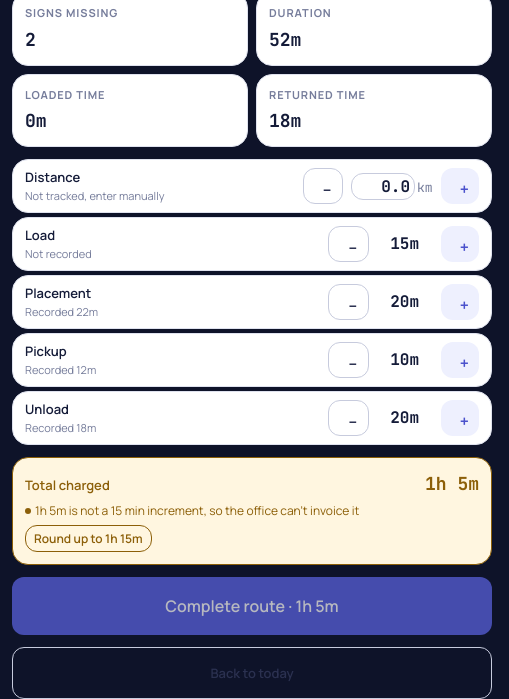
Test: Operator Finalise page › rounding up brings the total to a 15 min increment and re-enables completion
(page scrolled)
Click the button "Round up to 1h 15m".
click(88, 539)  # box [25,526,152,552]
(page scrolled)
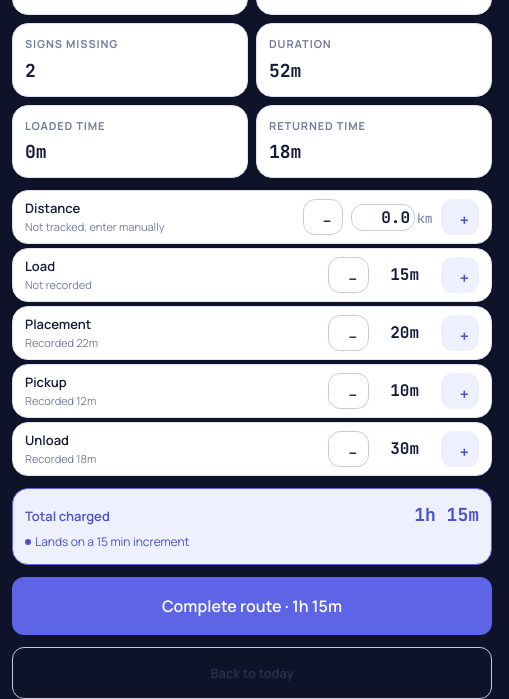
Result: the text "Lands on a 15 min increment" is shown at [35,532,189,552]
Result: the button "Complete route · 1h 15m" is enabled at [12,578,492,636]
